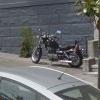Motorcycle: (29, 27, 86, 76)
